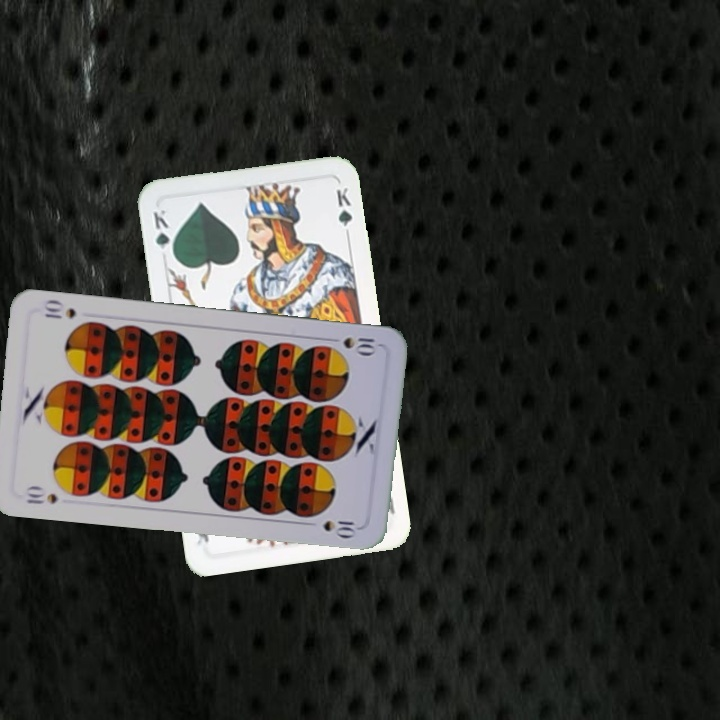GK: (149, 205, 177, 261)
S10: (339, 333, 382, 356), (22, 482, 61, 507)
